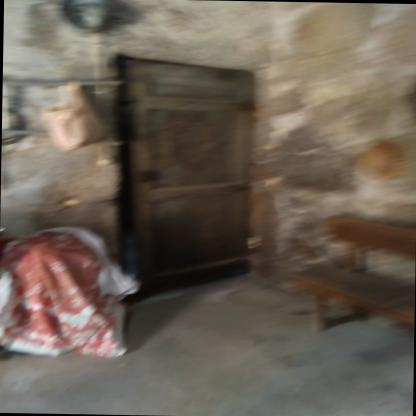closed: (106, 47, 269, 298)
